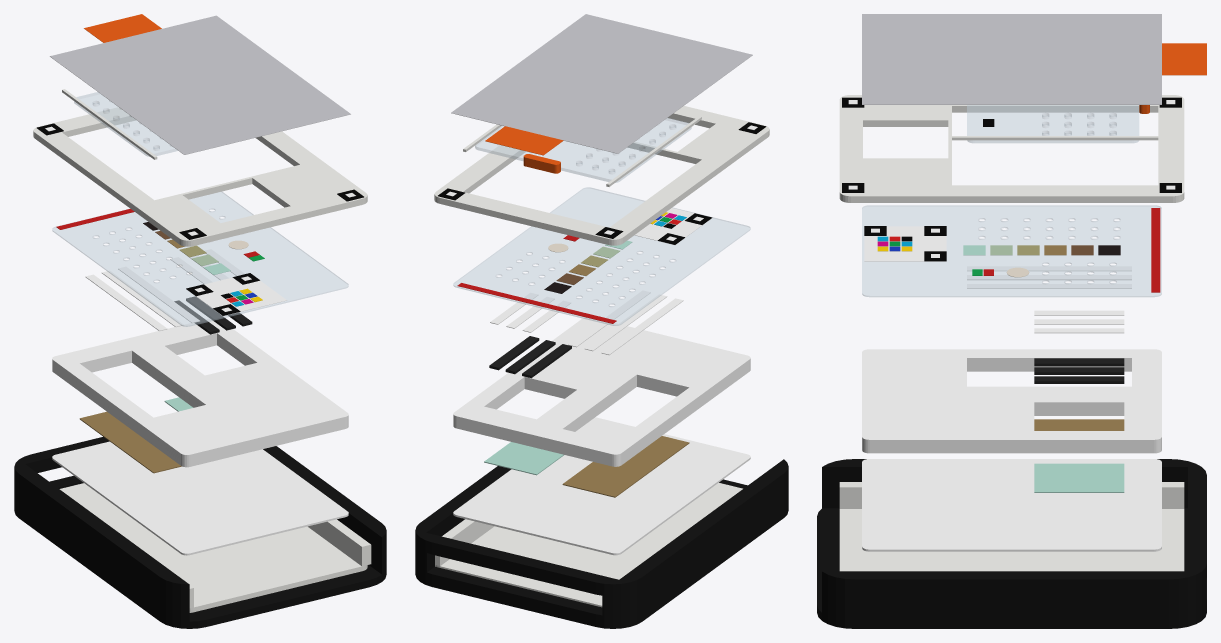
File: exploded.glb
The picture shows the model from 3 angles, left to right: view 1: azimuth 30°, elevation 25°; view 2: azimuth 150°, elevation 25°; view 3: azimuth 270°, elevation 25°; orthographic projection. The views are drawn at different scales.
Visible parts, largest first — view 1: 060 Peel-off foil (as shipped) / Peel-off foil, 023 Sensor card (one-time) / Rigid PET spacer (2.0 mm air ga, 020 Sensor card (one-time) / Metallized white PET backing (b, 000 Cradle (reusable) / Cradle shell (antistatic PC/PA12), 033 Sensor card (one-time) / Laser-perforated clear PET hole, 006 Frame (reusable, ~12 months) / Frame top plate, 001 Frame (reusable, ~12 months) / Frame floor, 021 Sensor card (one-time) / Copper acetate ink - sensing la, 017 Hole-shutter plate (reusable) / Shutter plate (clear UV-, 040 Sensor card (one-time) / Colour QR base, 002 Frame (reusable, ~12 months) / Card guide wall, 061 Peel-off foil (as shipped) / Foil pull tab (leading edge (+5 smaller); view 2: 060 Peel-off foil (as shipped) / Peel-off foil, 023 Sensor card (one-time) / Rigid PET spacer (2.0 mm air ga, 000 Cradle (reusable) / Cradle shell (antistatic PC/PA12), 033 Sensor card (one-time) / Laser-perforated clear PET hole, 020 Sensor card (one-time) / Metallized white PET backing (b, 006 Frame (reusable, ~12 months) / Frame top plate, 001 Frame (reusable, ~12 months) / Frame floor, 017 Hole-shutter plate (reusable) / Shutter plate (clear UV-, 021 Sensor card (one-time) / Copper acetate ink - sensing la, 022 Sensor card (one-time) / Copper acetate ink - reference , 061 Peel-off foil (as shipped) / Foil pull tab (leading edge, 040 Sensor card (one-time) / Colour QR base (+10 smaller); view 3: 000 Cradle (reusable) / Cradle shell (antistatic PC/PA12), 060 Peel-off foil (as shipped) / Peel-off foil, 023 Sensor card (one-time) / Rigid PET spacer (2.0 mm air ga, 020 Sensor card (one-time) / Metallized white PET backing (b, 033 Sensor card (one-time) / Laser-perforated clear PET hole, 006 Frame (reusable, ~12 months) / Frame top plate, 001 Frame (reusable, ~12 months) / Frame floor, 017 Hole-shutter plate (reusable) / Shutter plate (clear UV-, 022 Sensor card (one-time) / Copper acetate ink - reference , 040 Sensor card (one-time) / Colour QR base, 061 Peel-off foil (as shipped) / Foil pull tab (leading edge, 004 Frame (reusable, ~12 months) / Card guide wall (+12 smaller).
Boxes of the visible parts, x1,y1,x2,y2 form: 060 Peel-off foil (as shipped) / Peel-off foil: (50,15,350,154); 023 Sensor card (one-time) / Rigid PET spacer (2.0 mm air ga: (52,318,348,467); 020 Sensor card (one-time) / Metallized white PET backing (b: (52,441,348,555); 000 Cradle (reusable) / Cradle shell (antistatic PC/PA12): (14,436,386,628); 033 Sensor card (one-time) / Laser-perforated clear PET hole: (52,191,348,326); 006 Frame (reusable, ~12 months) / Frame top plate: (33,107,367,246); 001 Frame (reusable, ~12 months) / Frame floor: (59,483,367,612); 021 Sensor card (one-time) / Copper acetate ink - sensing la: (79,411,181,473); 017 Hole-shutter plate (reusable) / Shutter plate (clear UV-: (74,92,177,156); 040 Sensor card (one-time) / Colour QR base: (186,277,286,316); 002 Frame (reusable, ~12 months) / Card guide wall: (308,519,371,566); 061 Peel-off foil (as shipped) / Foil pull tab (leading edge: (84,14,161,42); 060 Peel-off foil (as shipped) / Peel-off foil: (451,14,752,153); 023 Sensor card (one-time) / Rigid PET spacer (2.0 mm air ga: (453,317,750,466); 000 Cradle (reusable) / Cradle shell (antistatic PC/PA12): (415,459,788,628); 033 Sensor card (one-time) / Laser-perforated clear PET hole: (453,187,750,325); 020 Sensor card (one-time) / Metallized white PET backing (b: (453,417,750,555); 006 Frame (reusable, ~12 months) / Frame top plate: (434,106,769,245); 001 Frame (reusable, ~12 months) / Frame floor: (435,483,742,607); 017 Hole-shutter plate (reusable) / Shutter plate (clear UV-: (475,118,691,182); 021 Sensor card (one-time) / Copper acetate ink - sensing la: (562,436,689,497); 022 Sensor card (one-time) / Copper acetate ink - reference : (484,442,563,475); 061 Peel-off foil (as shipped) / Foil pull tab (leading edge: (485,126,563,155); 040 Sensor card (one-time) / Colour QR base: (635,208,711,244); 000 Cradle (reusable) / Cradle shell (antistatic PC/PA12): (817,459,1206,628); 060 Peel-off foil (as shipped) / Peel-off foil: (862,14,1161,104); 023 Sensor card (one-time) / Rigid PET spacer (2.0 mm air ga: (862,349,1161,453); 020 Sensor card (one-time) / Metallized white PET backing (b: (862,459,1161,551); 033 Sensor card (one-time) / Laser-perforated clear PET hole: (862,205,1161,297); 006 Frame (reusable, ~12 months) / Frame top plate: (839,95,1184,202); 001 Frame (reusable, ~12 months) / Frame floor: (839,509,1184,571); 017 Hole-shutter plate (reusable) / Shutter plate (clear UV-: (967,105,1139,143); 022 Sensor card (one-time) / Copper acetate ink - reference : (1034,463,1124,492); 040 Sensor card (one-time) / Colour QR base: (864,226,946,261); 061 Peel-off foil (as shipped) / Foil pull tab (leading edge: (1162,43,1206,75); 004 Frame (reusable, ~12 months) / Card guide wall: (839,482,1184,508).
Bounding box in the file's own units: 0.038 × 0.075 × 0.052.
